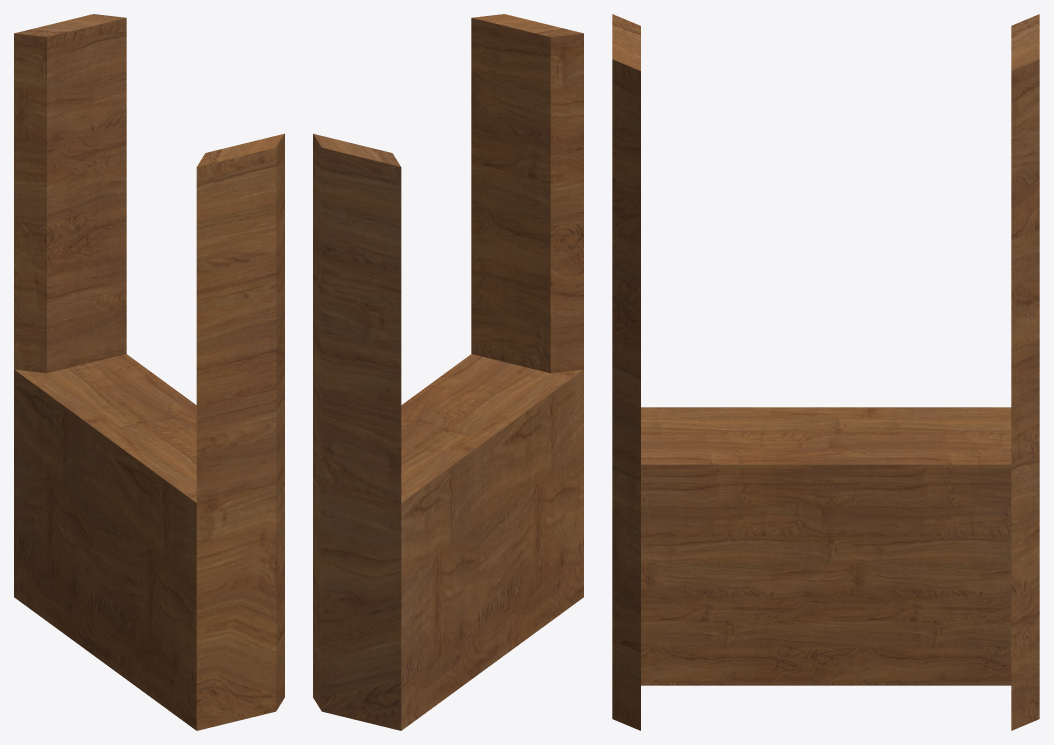
The model's file is Cabine_De_Tiro.fbx.
3 views of the same model, side by side, from view 1: azimuth 30°, elevation 25°; view 2: azimuth 150°, elevation 25°; view 3: azimuth 270°, elevation 25° (orthographic). The views are drawn at different scales.
Parts seen in each view (by area): view 1: pCube3; view 2: pCube3; view 3: pCube3.
Boxes of the visible parts, <box> form: pCube3: <box>14,14,284,730</box>; pCube3: <box>313,14,583,730</box>; pCube3: <box>612,14,1039,730</box>.
Bounding box in the file's own units: 1.8 × 9.66 × 5.67.
